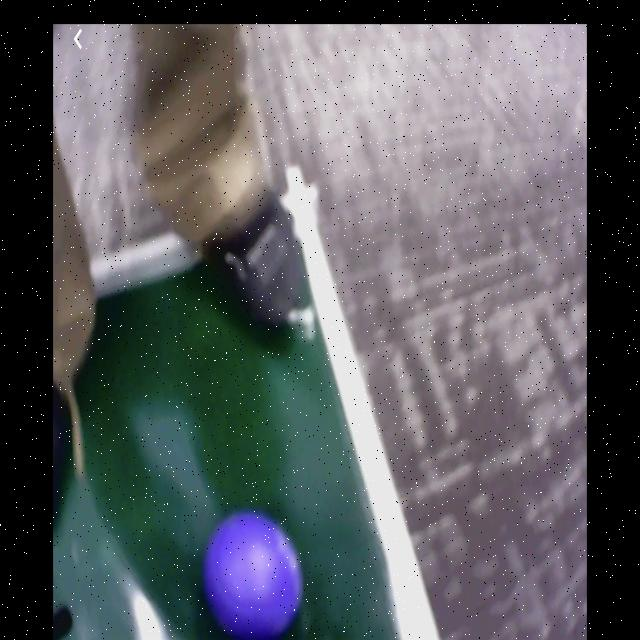ball: (204, 510, 303, 638)
